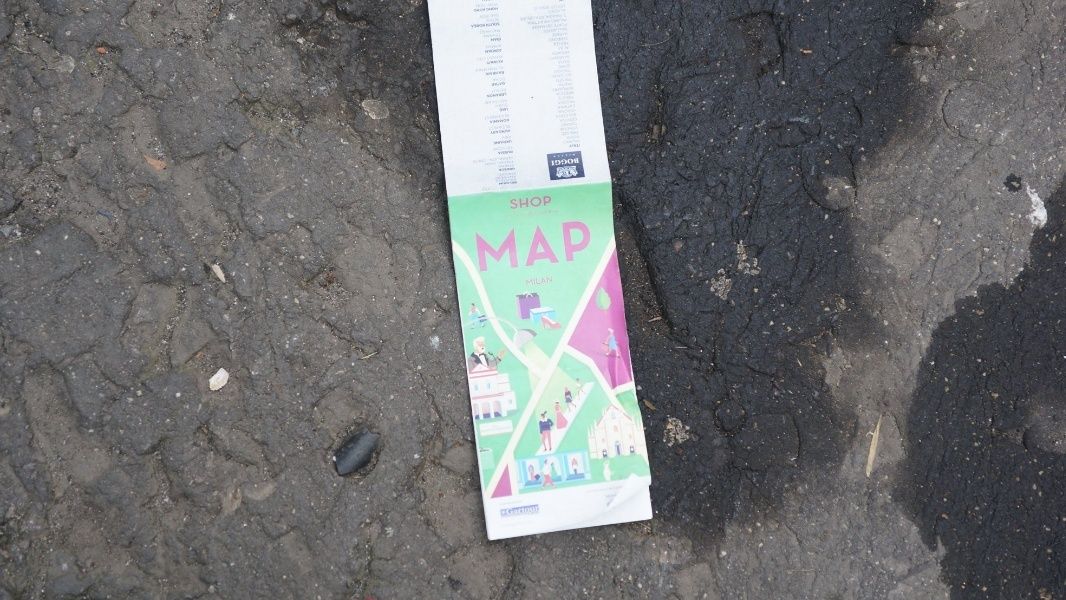text: (465, 1, 480, 191), (481, 1, 496, 191), (497, 1, 512, 191), (513, 1, 528, 152), (529, 1, 544, 152), (545, 1, 560, 152), (561, 1, 576, 152), (513, 1, 521, 191), (577, 1, 585, 152), (577, 218, 593, 276), (481, 218, 496, 276), (497, 218, 512, 276), (513, 218, 528, 276), (529, 218, 544, 276), (545, 218, 560, 276), (561, 218, 576, 276), (473, 218, 480, 276), (462, 1, 464, 191), (513, 193, 528, 211), (529, 193, 544, 211), (513, 207, 528, 219), (529, 207, 544, 219), (545, 207, 560, 219), (529, 275, 544, 286), (545, 193, 554, 211), (511, 1, 512, 152), (561, 158, 576, 168), (502, 207, 512, 219), (551, 158, 560, 168), (545, 275, 553, 286), (510, 193, 512, 211), (525, 275, 528, 286), (577, 158, 580, 168)
